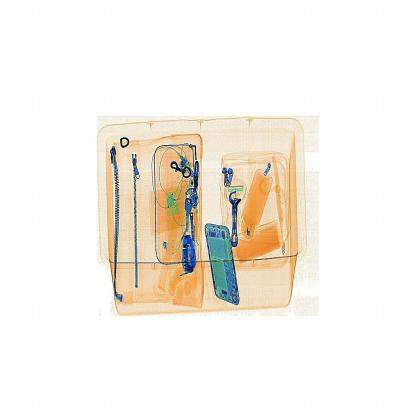scissors: (177, 234, 201, 287)
